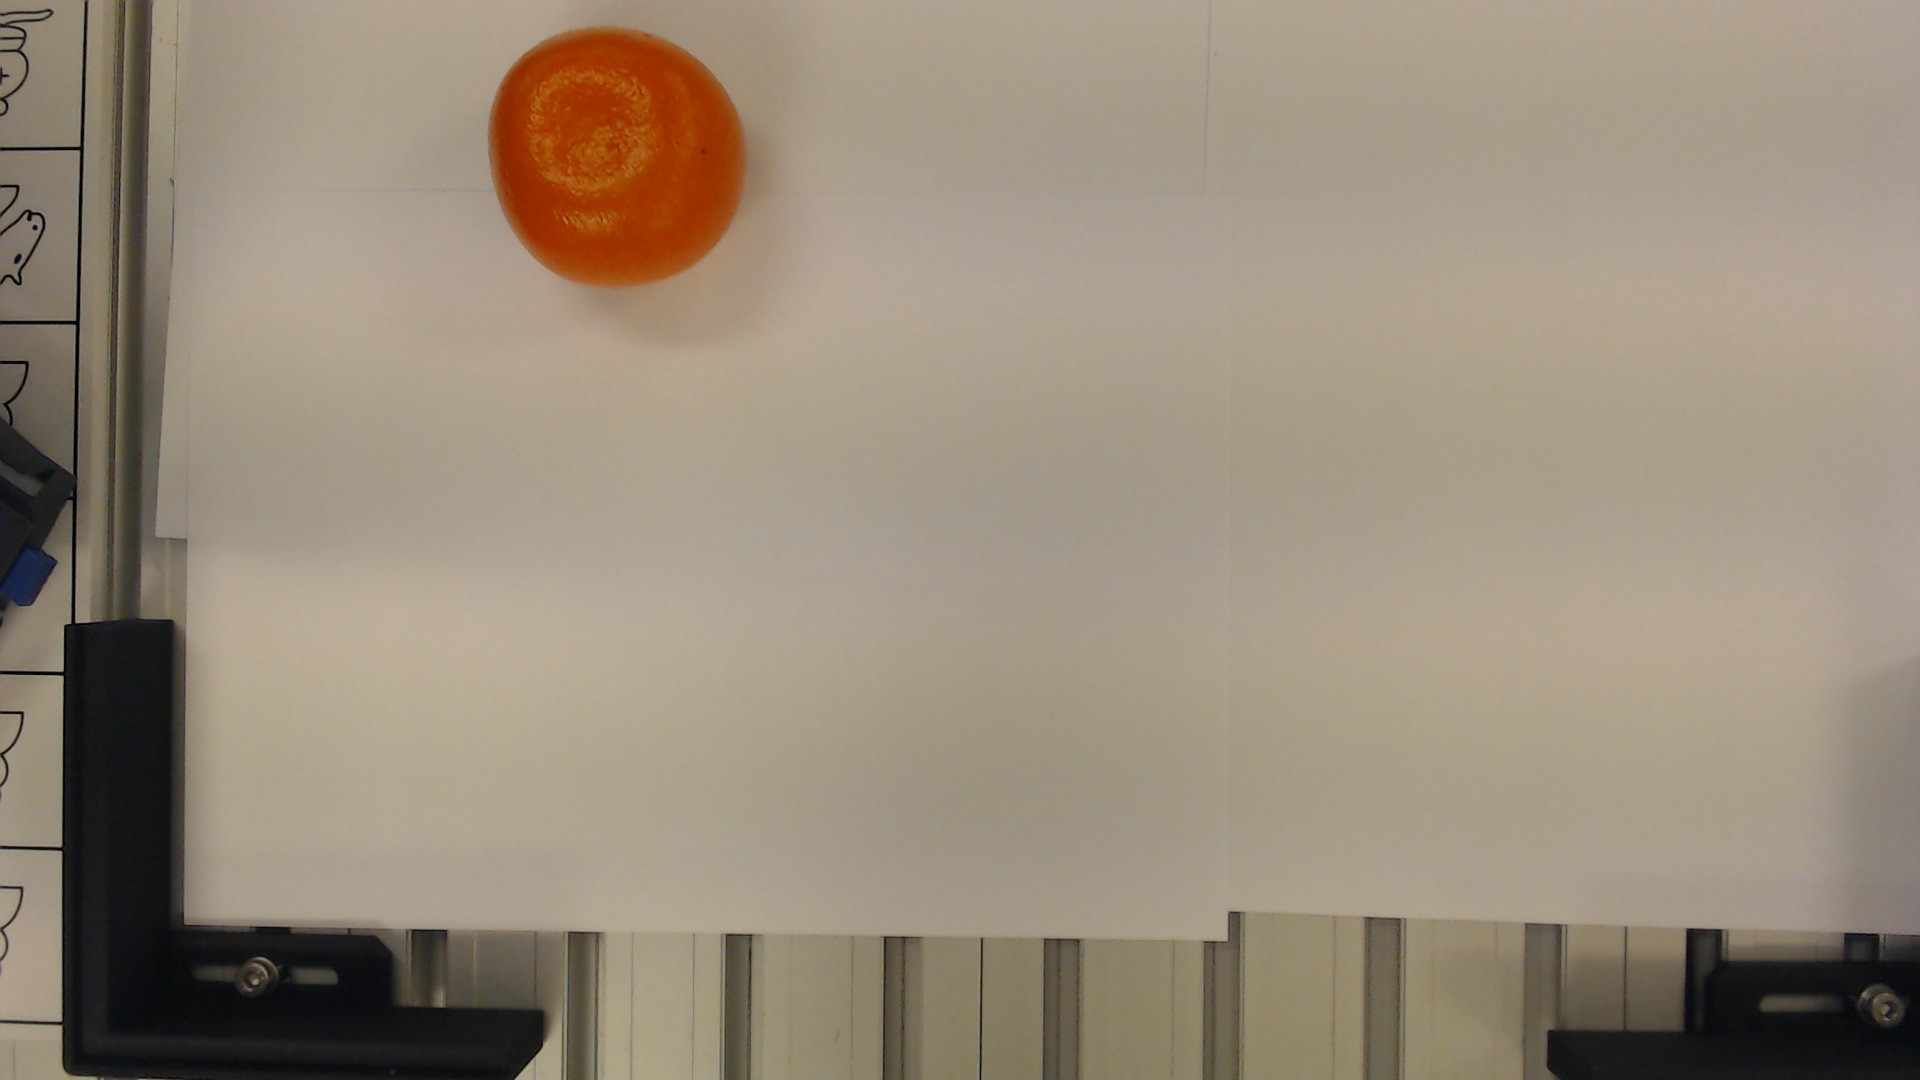Mandarin: (477, 13, 756, 290)
